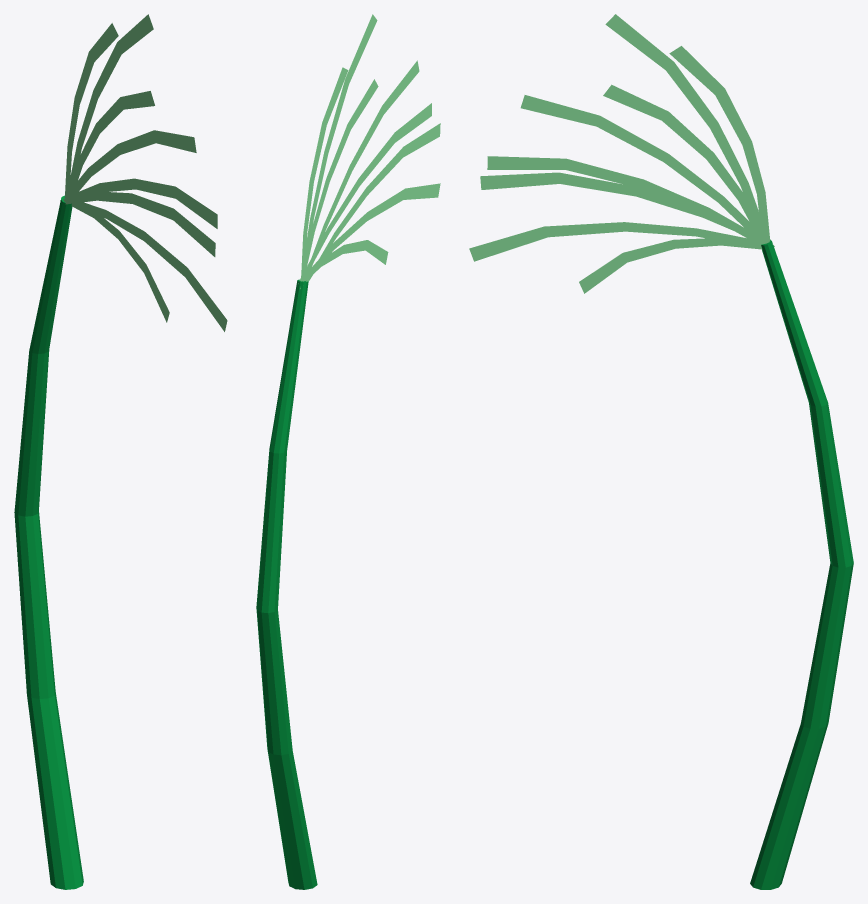
File: Flw1.fbx
3 renders of one model, left to right at view 1: azimuth 30°, elevation 25°; view 2: azimuth 150°, elevation 25°; view 3: azimuth 270°, elevation 25°, orthographic. The views are drawn at different scales.
Visible parts, largest first — view 1: Plane.015; view 2: Plane.015; view 3: Plane.015.
Boxes of the visible parts, x1,y1,x2,y2 form: Plane.015: (14, 14, 227, 889); Plane.015: (256, 14, 440, 889); Plane.015: (469, 14, 853, 889).
Bounding box in the file's own units: 4.92 × 156 × 62.45.
